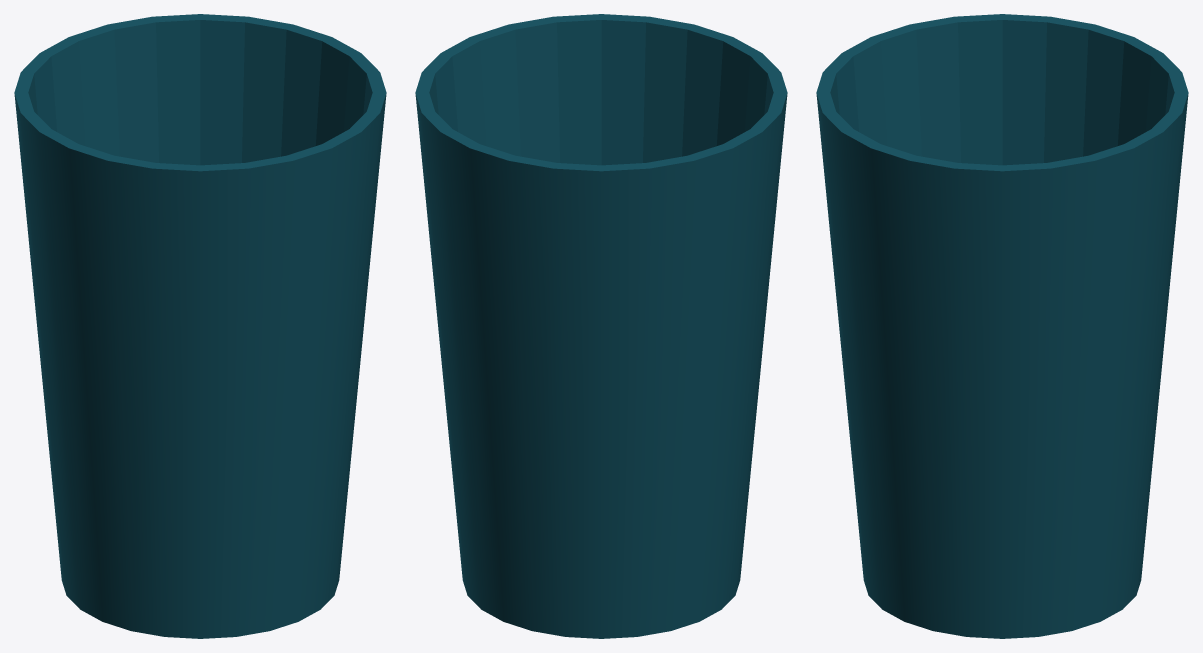
Rendered from CupSlanted.FBX.
The picture shows the model from 3 angles, left to right: view 1: azimuth 30°, elevation 25°; view 2: azimuth 150°, elevation 25°; view 3: azimuth 270°, elevation 25°; orthographic projection.
Parts seen in each view (by area): view 1: Cylinder001; view 2: Cylinder001; view 3: Cylinder001.
Boxes of the visible parts, x1=… form: Cylinder001: x1=14, y1=14, x2=386, y2=638; Cylinder001: x1=415, y1=14, x2=787, y2=638; Cylinder001: x1=816, y1=14, x2=1188, y2=638.
Bounding box in the file's own units: 12.68 × 12.68 × 18.34.
